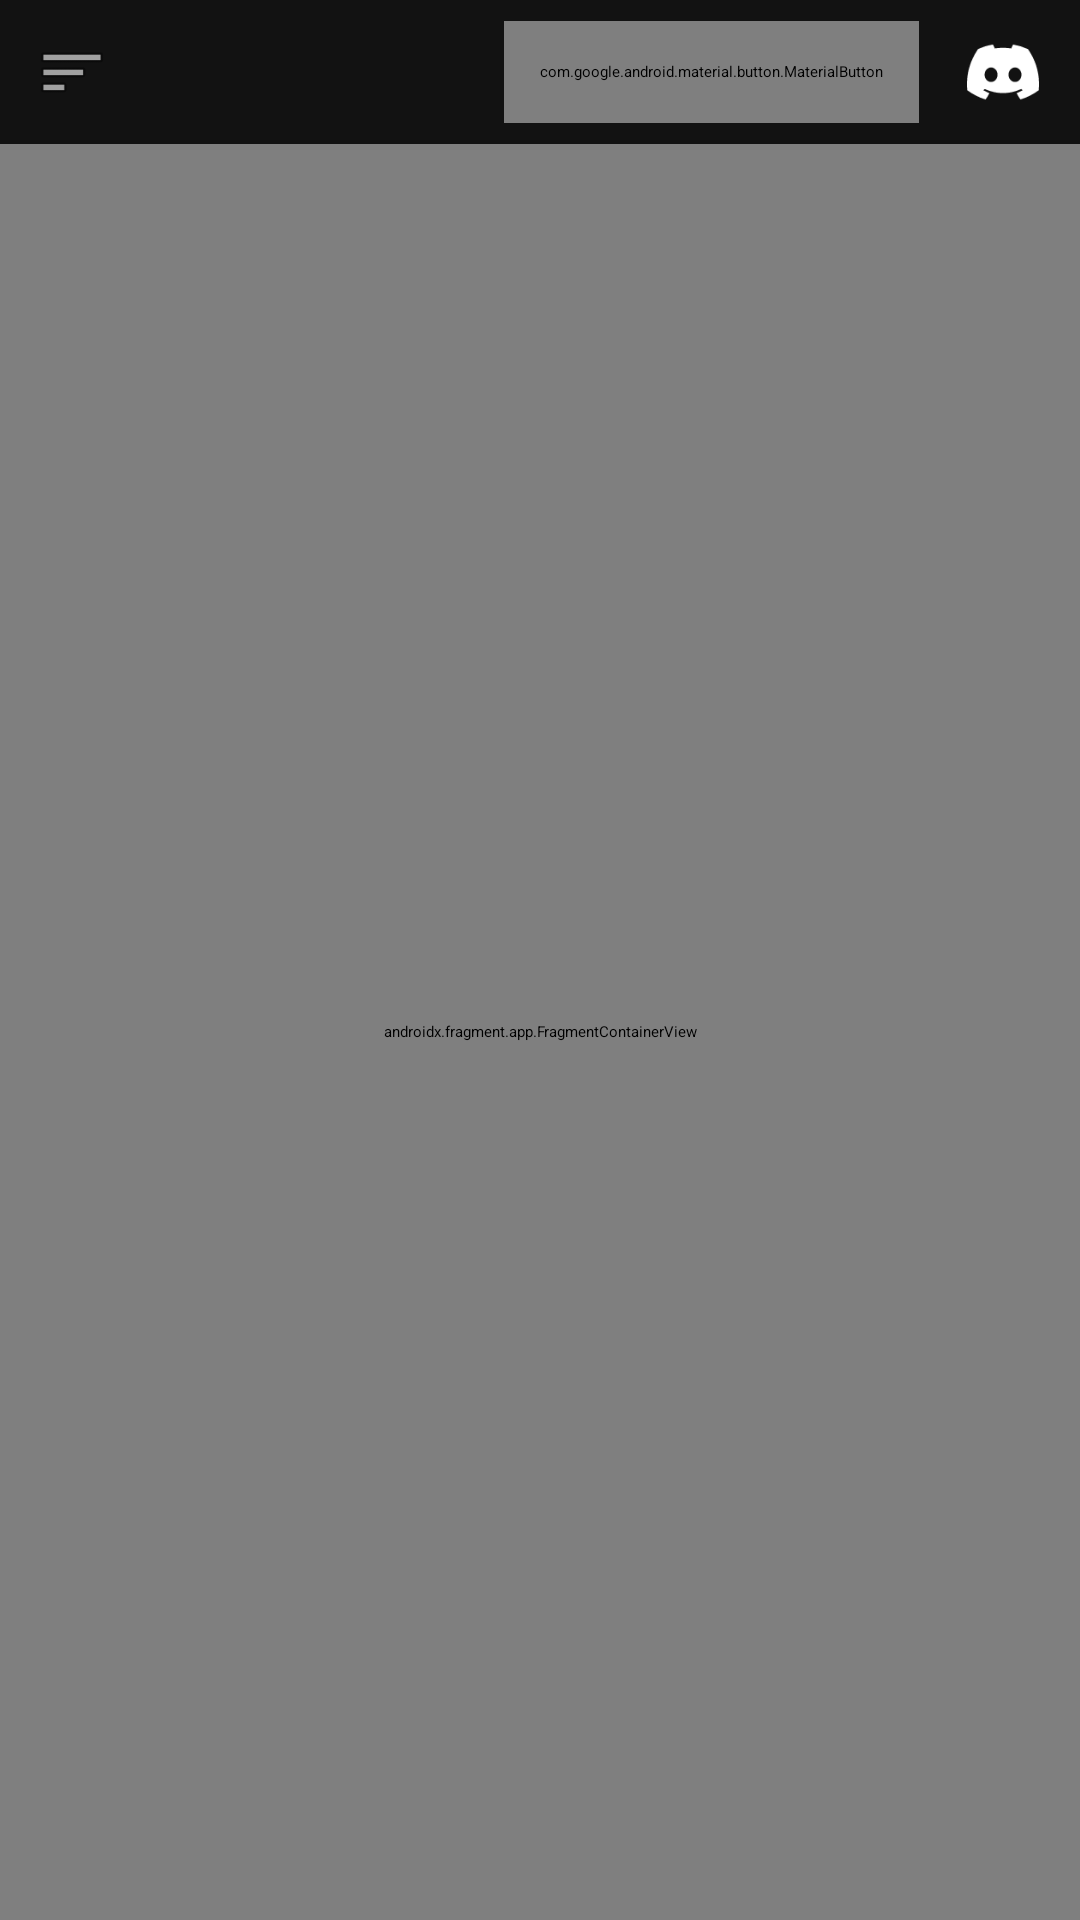

Where to tap for icons on this 1080*1920 app screen, as [x,y]:
sort by size: [72,72]
